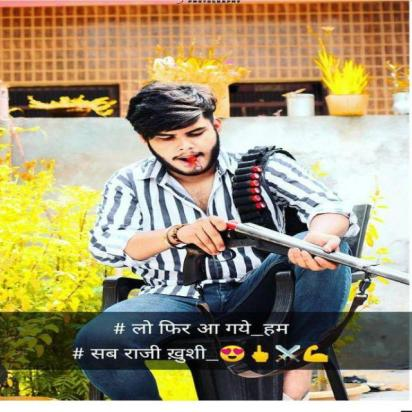Gun: (181, 218, 409, 288)
